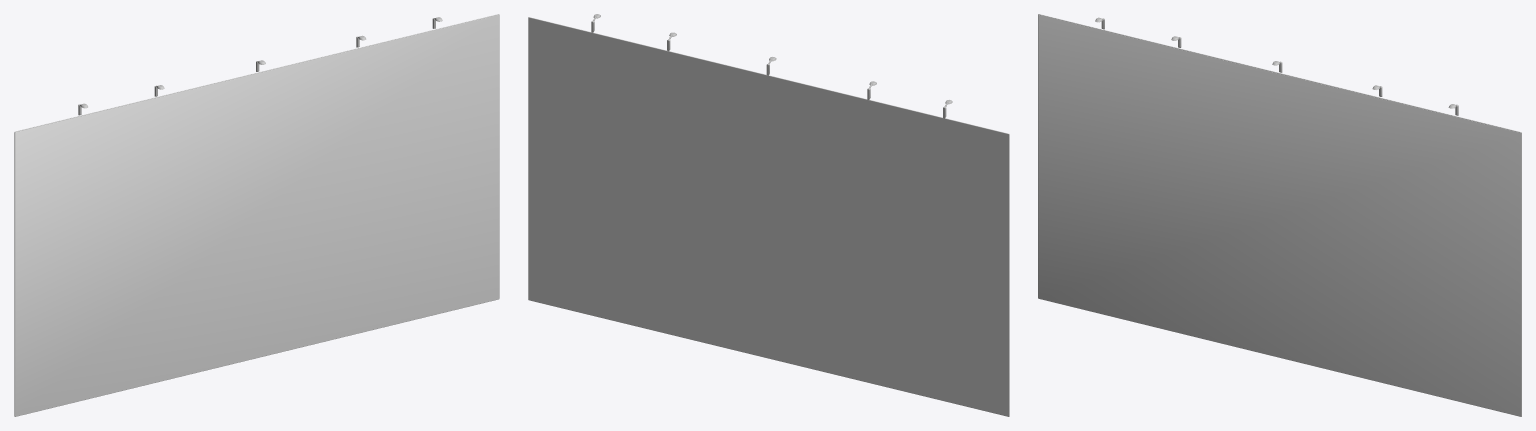
Rendered from Modern_City_Skraper_Billboard.fbx.
3 views of the same model, side by side, from view 1: azimuth 30°, elevation 25°; view 2: azimuth 150°, elevation 25°; view 3: azimuth 330°, elevation 25° (orthographic).
Parts seen in each view (by area): view 1: Modern_City_Skraper_Billboard_Ad001, Modern_City_Skraper_Billboard_AdBacker; view 2: Modern_City_Skraper_Billboard_AdBacker; view 3: Modern_City_Skraper_Billboard_Ad001, Modern_City_Skraper_Billboard_AdBacker.
Boxes of the visible parts, x1,y1,x2,y2 form: Modern_City_Skraper_Billboard_Ad001: (15, 15, 499, 416); Modern_City_Skraper_Billboard_AdBacker: (14, 14, 499, 416); Modern_City_Skraper_Billboard_AdBacker: (528, 17, 1009, 416); Modern_City_Skraper_Billboard_Ad001: (1038, 15, 1521, 416); Modern_City_Skraper_Billboard_AdBacker: (1038, 14, 1521, 416).
Size of the model in its own units: 96 by 56.78 by 2.49.
4 materials, 2 textured.
